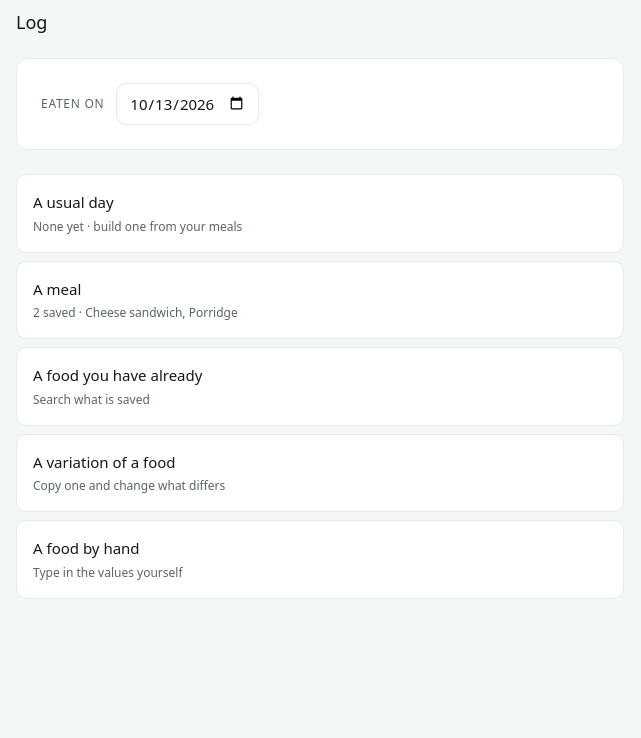
Test: LogView › corrects a saved meal in place and lands back on the meals
The image size is (641, 738).
Click the button "A meal 2 saved · Cheese sandwich, Porridge": (57, 289) left=16, top=261, right=624, bottom=339
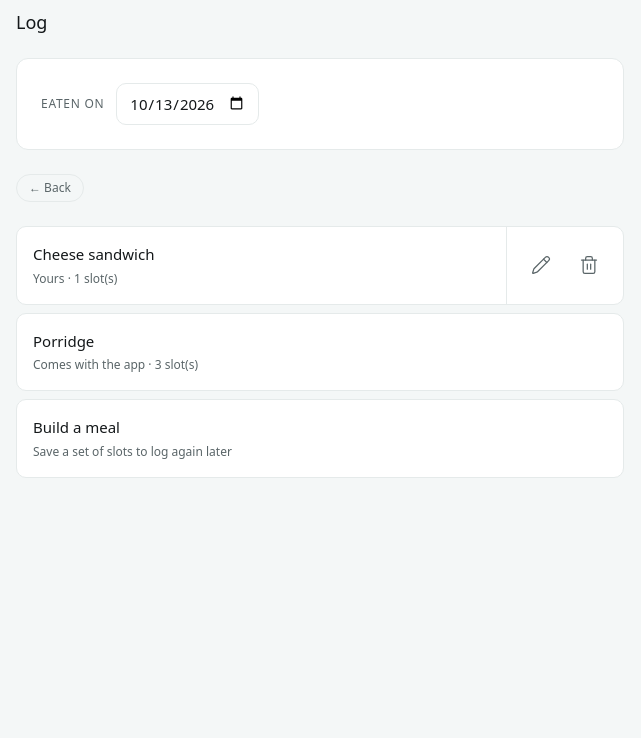
Click the button named "Edit Cheese sandwich": (541, 265) left=519, top=243, right=563, bottom=287
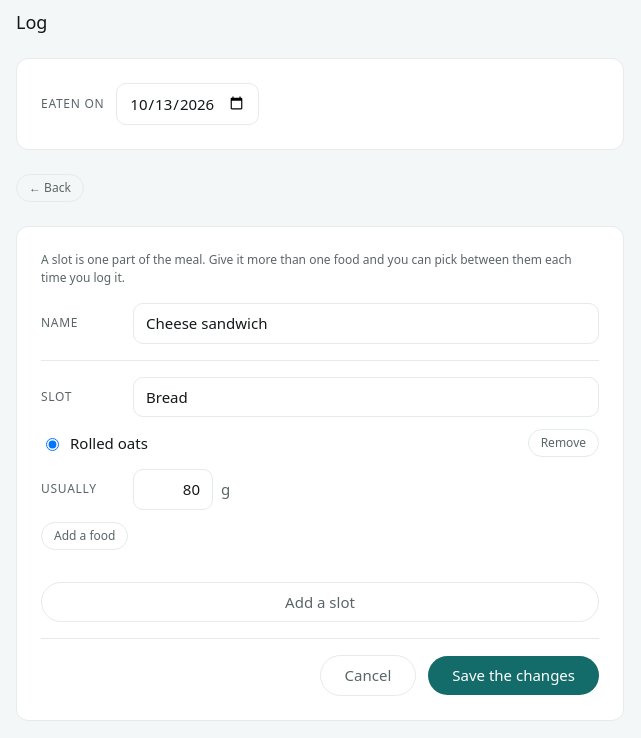
Replace the text in the field with id "slot-0-grams" with "95": (173, 489) left=133, top=469, right=213, bottom=510
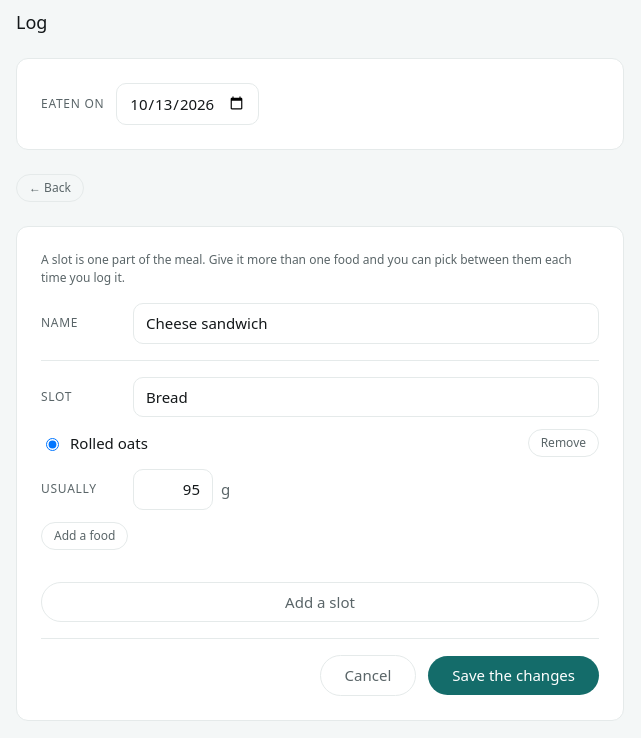
Click the button "Save the changes": (514, 675) left=428, top=656, right=599, bottom=695
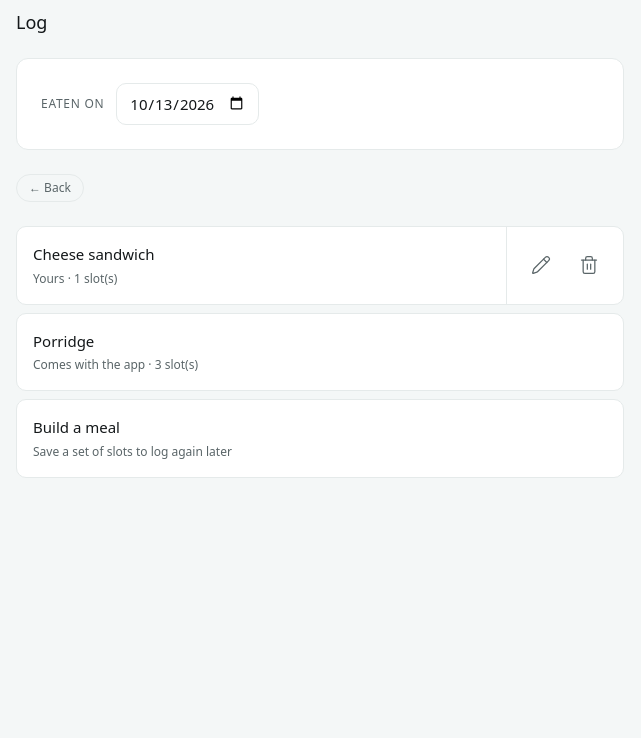
Result: the button "Cheese sandwich Yours · 1 slot(s)" is shown at left=17, top=227, right=506, bottom=304
